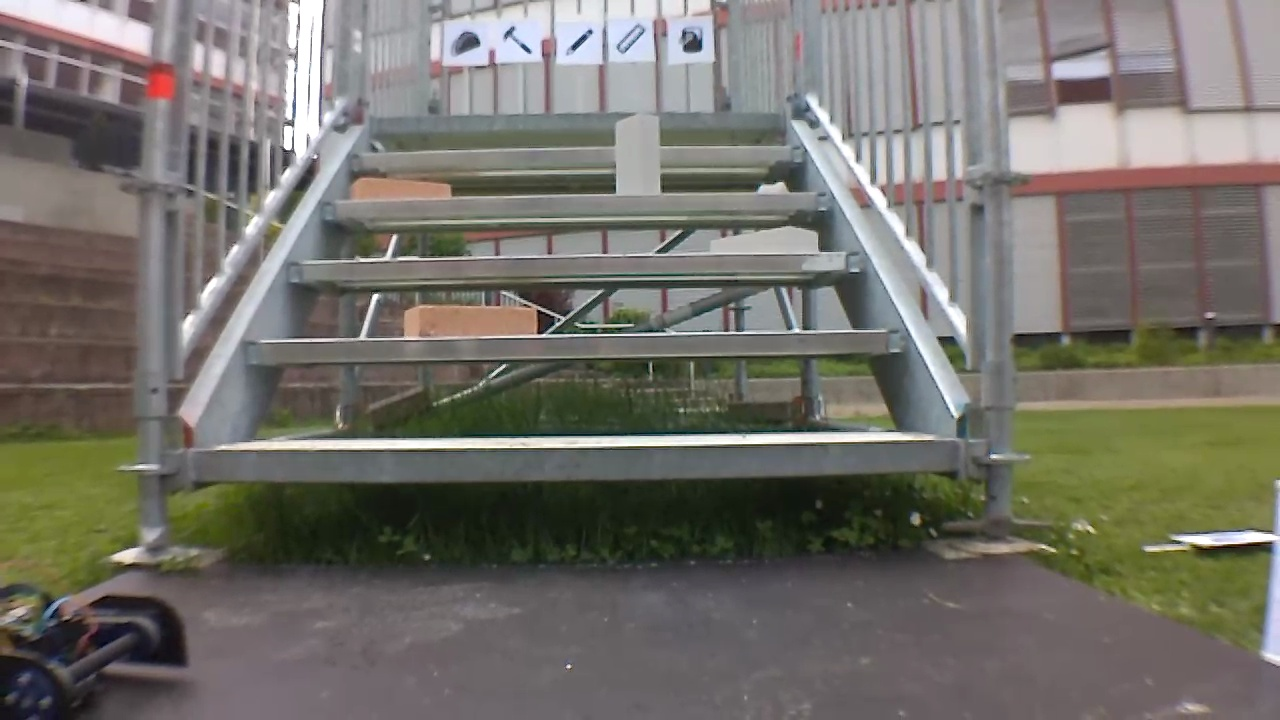brick: (403, 304, 535, 336), (615, 114, 660, 192), (347, 178, 449, 199)
bucket: (674, 23, 709, 56)
edge: (193, 439, 953, 478), (247, 329, 905, 359), (289, 251, 864, 279), (317, 191, 831, 214), (350, 143, 804, 166), (370, 111, 790, 129)
hammer: (499, 24, 533, 58)
pencil: (559, 25, 594, 57)
ruler: (609, 21, 649, 58)
stairs: (136, 1, 1023, 555)
steps: (178, 104, 966, 488)
taco: (448, 27, 486, 59)
